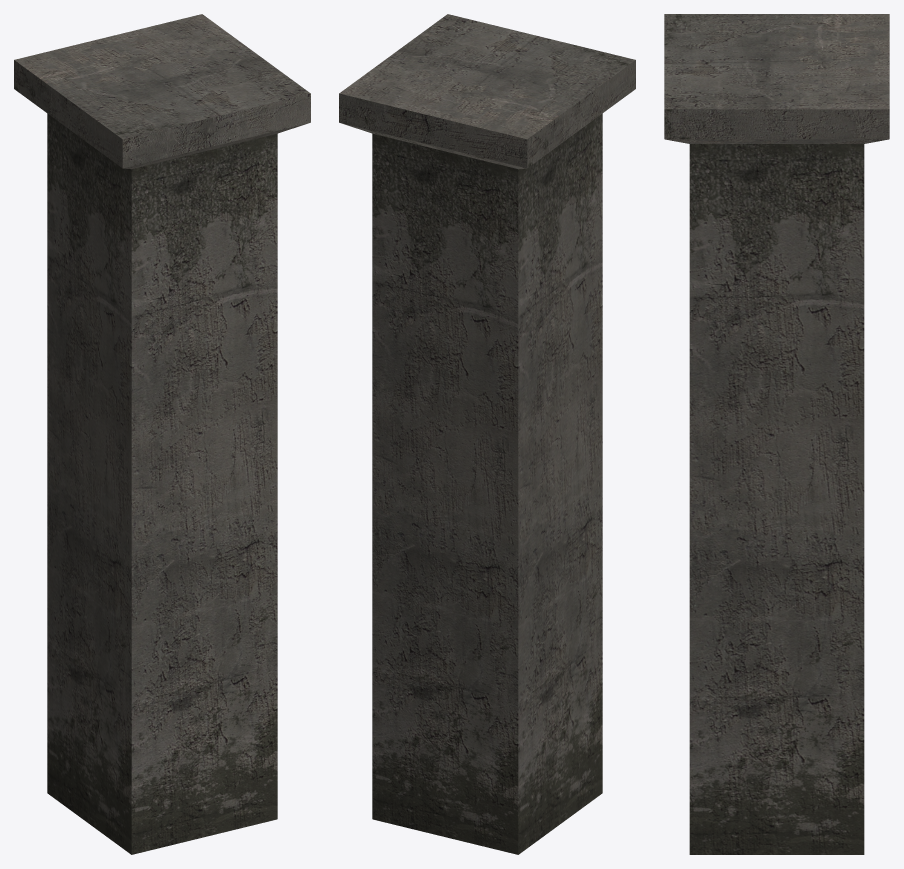
The model's file is backWallColumnLow.FBX.
3 views of the same model, side by side, from view 1: azimuth 30°, elevation 25°; view 2: azimuth 150°, elevation 25°; view 3: azimuth 270°, elevation 25° (orthographic). The views are drawn at different scales.
Visible parts, largest first — view 1: backWallColumnLow; view 2: backWallColumnLow; view 3: backWallColumnLow.
Part boxes in pixels (x1,y1,x2,y2): backWallColumnLow: [14, 14, 310, 854]; backWallColumnLow: [339, 14, 635, 854]; backWallColumnLow: [664, 14, 889, 854].
Bounding box in the file's own units: 193 × 716 × 193.
Materials: 1 (1 with a texture image).
